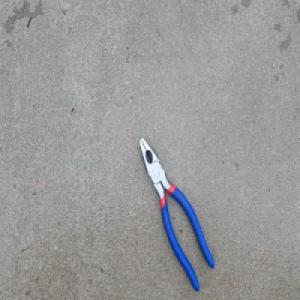Pliers: (137, 135, 215, 294)
